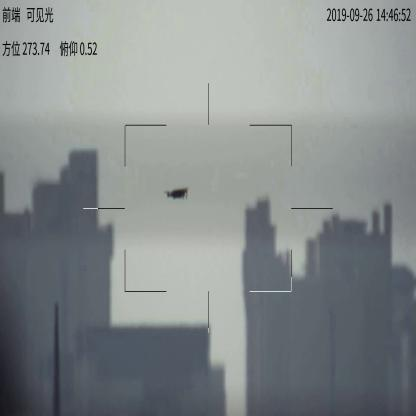uav: (162, 185, 190, 202)
